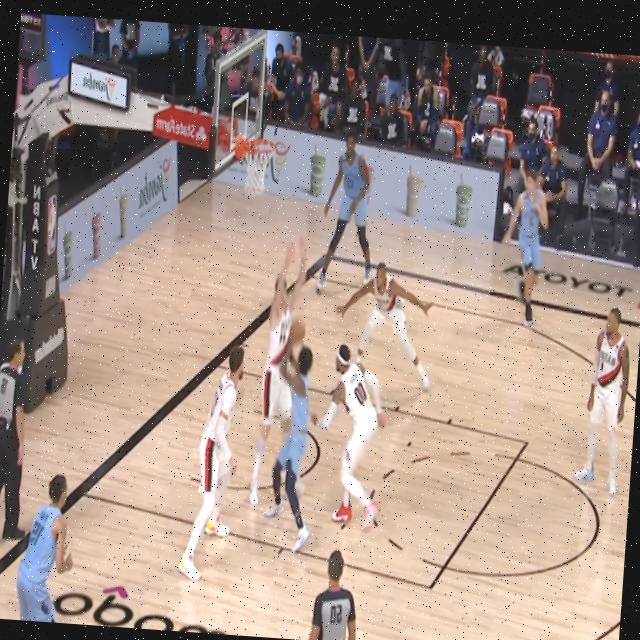foul: (237, 248, 321, 573)
no foul: (176, 321, 266, 594), (320, 330, 389, 560)
